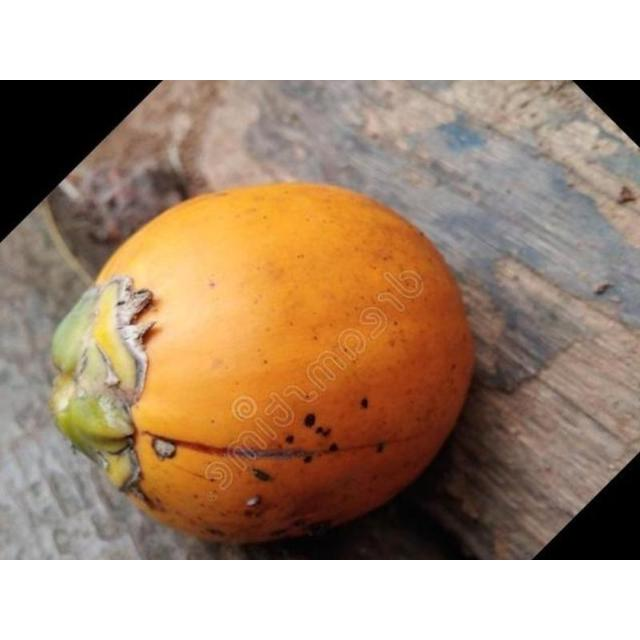good: (48, 182, 477, 548)
